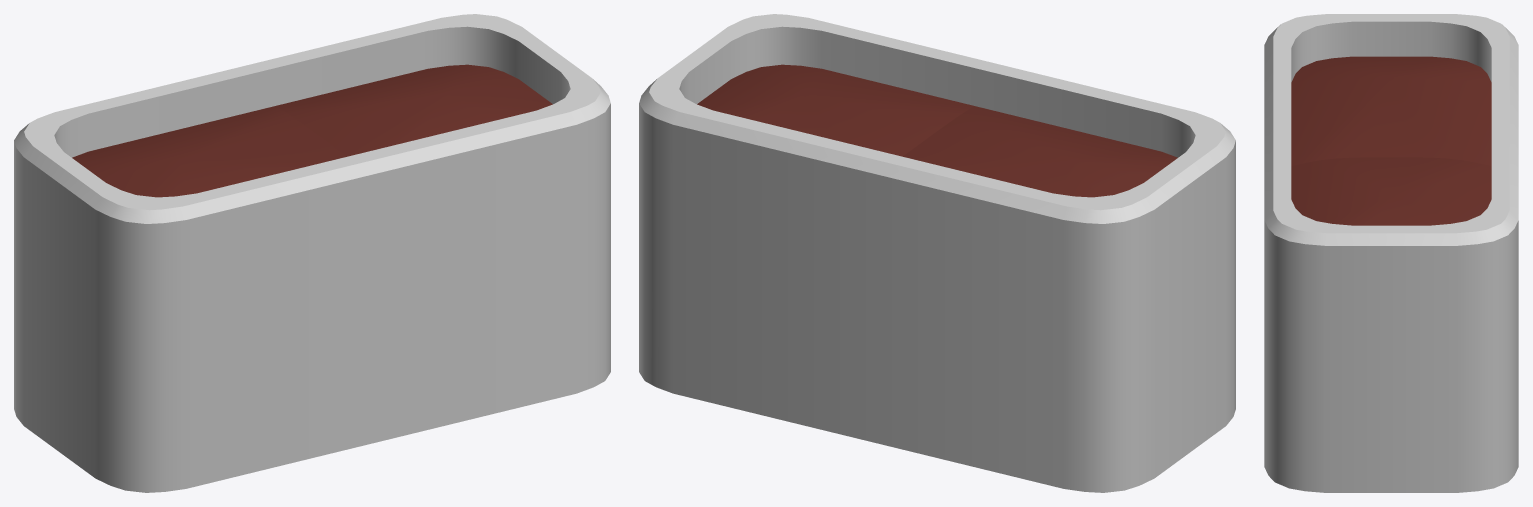
File: Plant Pot Long Destroyed C.fbx
3 views of the same model, side by side, from view 1: azimuth 30°, elevation 25°; view 2: azimuth 150°, elevation 25°; view 3: azimuth 270°, elevation 25° (orthographic). The views are drawn at different scales.
Parts seen in each view (by area): view 1: Plant Long Destroyed C; view 2: Plant Long Destroyed C; view 3: Plant Long Destroyed C.
Boxes of the visible parts, x1,y1,x2,y2 form: Plant Long Destroyed C: [14, 14, 610, 492]; Plant Long Destroyed C: [639, 14, 1235, 492]; Plant Long Destroyed C: [1264, 14, 1518, 492].
Size of the model in its own units: 1.9 by 1 by 0.9.
